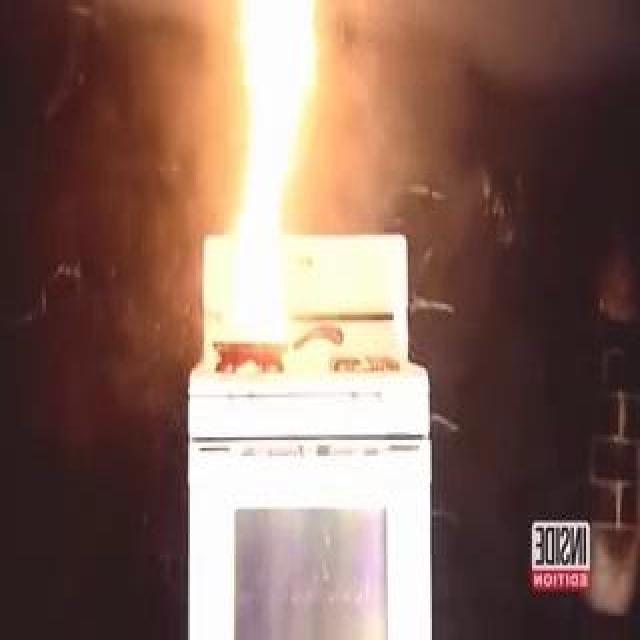Fire: (198, 3, 324, 357)
